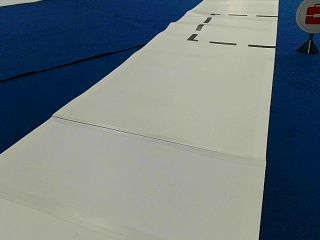company: (295, 0, 319, 31)
